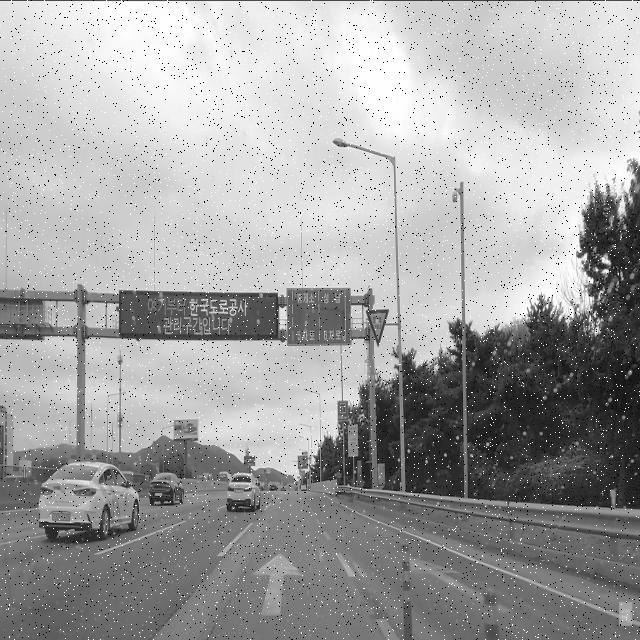forward: (157, 533, 386, 633)
